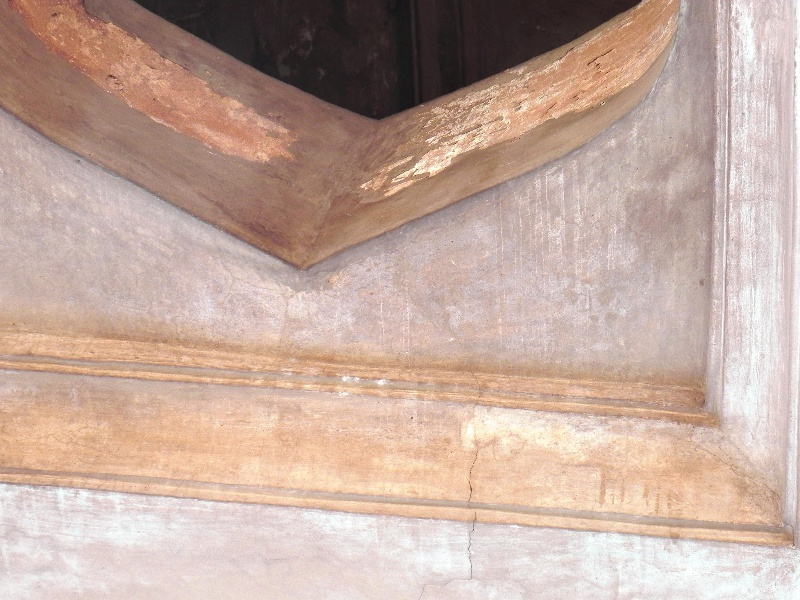Crack: (456, 437, 488, 593)
